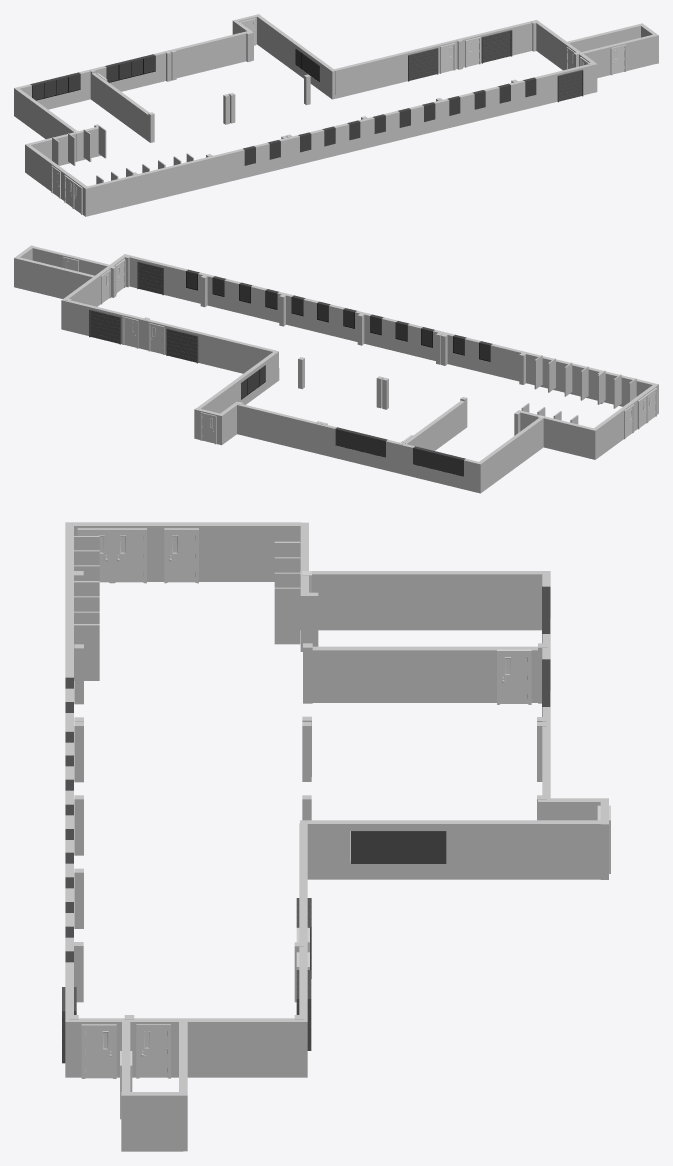
Rendered from walls.glb.
3 views of the same model, one above another, from view 1: azimuth 30°, elevation 25°; view 2: azimuth 150°, elevation 25°; view 3: azimuth 270°, elevation 25° (orthographic). The views are drawn at different scales.
Parts seen in each view (by area): view 1: Cube.004, Cube, Cube.003, Cube.002, Cube.010, Cube.006, Cube.019, Cube.005, Cube.007, Cube.008, Cube.018, raam.015 (+9 smaller); view 2: Cube.004, Cube, Cube.003, Cube.006, Cube.008, Cube.018, Cube.002, Cube.010, Cube.007, raam.015, raam.012, SHUTTER.HANDLE.003 (+11 smaller); view 3: Cube.002, Cube.006, Cube.010, Cube.005, Cube.007, Cube.017, Cube.004, raam.013, Metal Door.004, Cube.003, Metal Door.011, Metal Door.001 (+8 smaller).
Boxes of the visible parts, x1,y1,x2,y2 form: Cube.004: (83,64,593,216); Cube: (15,31,247,109); Cube.003: (334,20,537,98); Cube.002: (257,15,335,99); Cube.010: (91,73,149,141); Cube.006: (14,87,80,161); Cube.019: (581,34,655,77); Cube.005: (536,21,597,92); Cube.007: (26,145,86,214); Cube.008: (25,124,100,173); Cube.018: (567,23,643,51); raam.015: (105,54,155,82); Cube.004: (128,255,658,414); Cube: (237,404,482,493); Cube.003: (61,299,275,373); Cube.006: (478,415,545,492); Cube.008: (514,410,597,459); Cube.018: (14,257,94,298); Cube.002: (196,350,279,413); Cube.010: (404,400,466,450); Cube.007: (594,385,656,458); raam.015: (335,427,387,457); raam.012: (413,446,465,476); SHUTTER.HANDLE.003: (89,309,121,344); Cube.002: (300,820,603,879); Cube.006: (300,571,547,630); Cube.010: (312,646,537,702); Cube.005: (65,1018,302,1077); Cube.007: (74,522,301,581); Cube.017: (121,1092,183,1151); Cube.004: (65,522,73,1018); raam.013: (351,831,446,863); Metal Door.004: (77,528,146,583); Cube.003: (299,823,307,1077); Metal Door.011: (81,1024,116,1078); Metal Door.001: (497,649,531,704).
Size of the model in its own units: 56.48 by 2.8 by 22.81.
10 materials, 3 textured.
